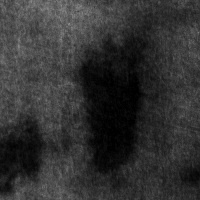patches: (76, 36, 147, 174), (0, 118, 45, 194)
